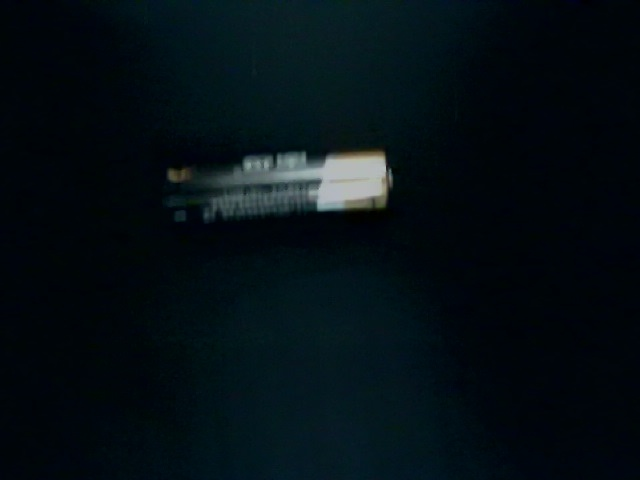QTLJ: (111, 431, 271, 476)
